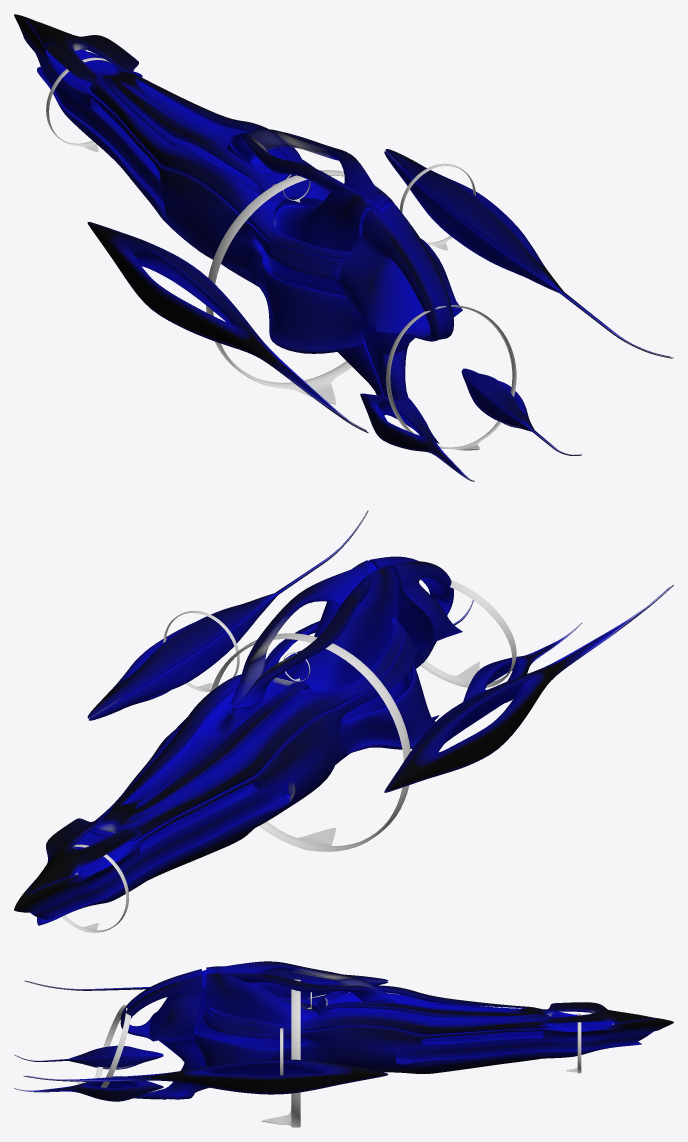
Rendered from ff_cruiser_03.fbx.
3 renders of one model, top to bottom at view 1: azimuth 30°, elevation 25°; view 2: azimuth 150°, elevation 25°; view 3: azimuth 270°, elevation 25°, orthographic. The views are drawn at different scales.
Visible parts, largest first — view 1: ff_cruiser_03, ff_cruiser03_ring_02, ff_cruiser03_ring_04; view 2: ff_cruiser_03, ff_cruiser03_ring_02, ff_cruiser03_ring_04; view 3: ff_cruiser_03, ff_cruiser03_ring_02, ff_cruiser03_ring_04, ff_cruiser03_ring_01.
Part boxes in pixels (left/top/right/bottom): ff_cruiser_03: left=14, top=14, right=673, bottom=481; ff_cruiser03_ring_02: left=206, top=170, right=395, bottom=404; ff_cruiser03_ring_04: left=386, top=305, right=516, bottom=450; ff_cruiser_03: left=14, top=510, right=673, bottom=925; ff_cruiser03_ring_02: left=210, top=633, right=410, bottom=851; ff_cruiser03_ring_04: left=419, top=579, right=516, bottom=687; ff_cruiser_03: left=14, top=961, right=673, bottom=1101; ff_cruiser03_ring_02: left=261, top=979, right=300, bottom=1127; ff_cruiser03_ring_04: left=76, top=1005, right=130, bottom=1087; ff_cruiser03_ring_01: left=566, top=1013, right=581, bottom=1073.
Size of the model in its own units: 2351 by 1587 by 6130.
